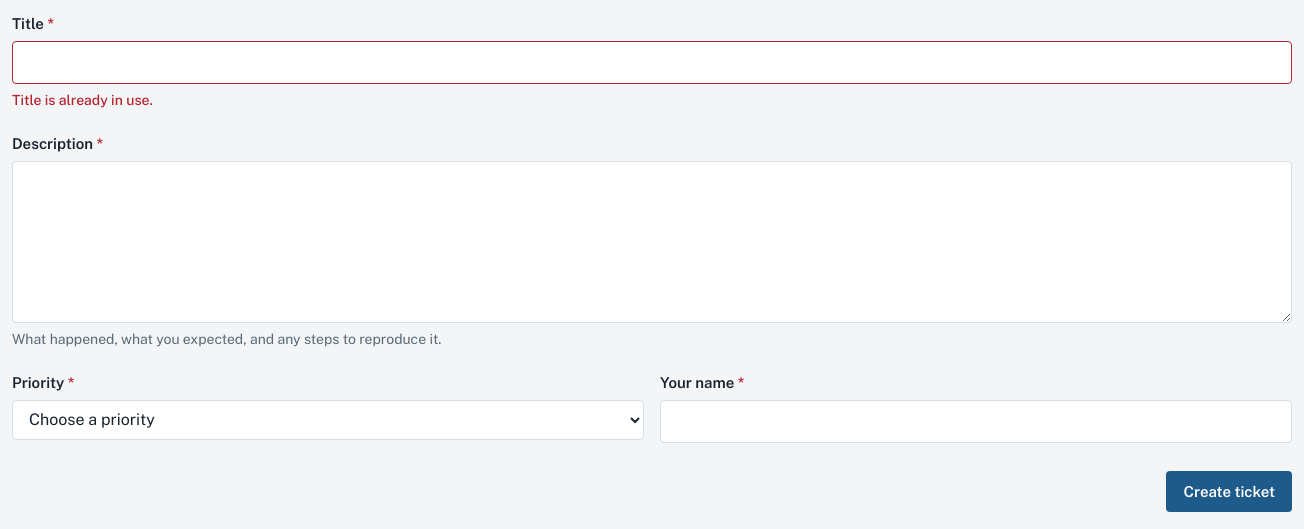
Test case: TicketForm › shows server-side errors until the field is edited
Check: the text "Title is already in use." is shown, box [12,92,153,108]
Type "x" into the field labelled "Title *". click: (652, 63)
box: [12,41,1292,84]
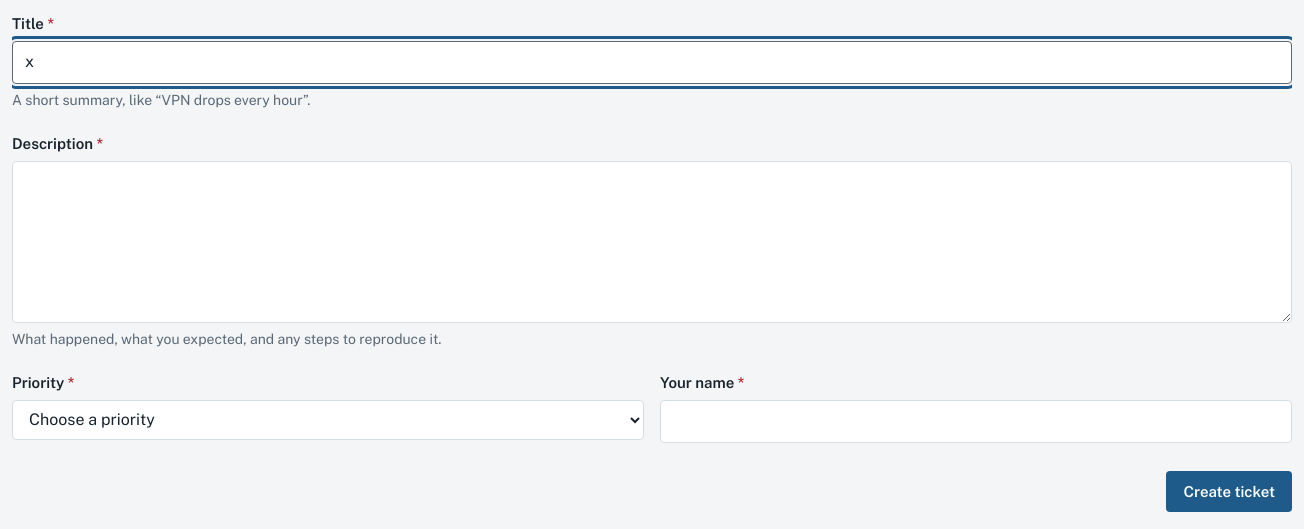
Check: the text "Title is already in use." is gone
